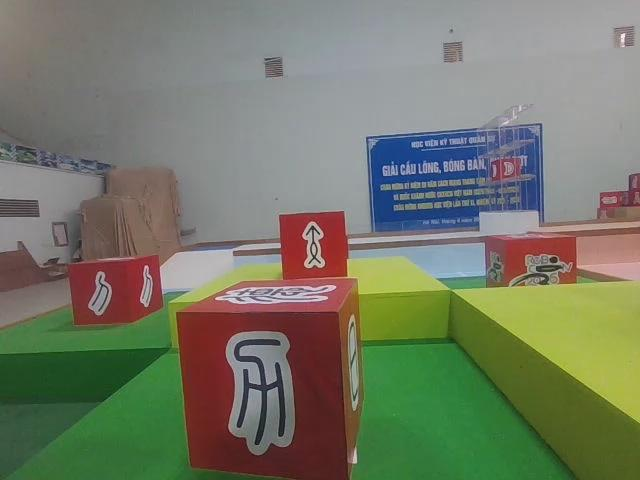R1: (479, 229, 580, 307)
R2 Fake: (173, 273, 366, 480)
R2 Real: (64, 253, 168, 328), (275, 206, 353, 283)
